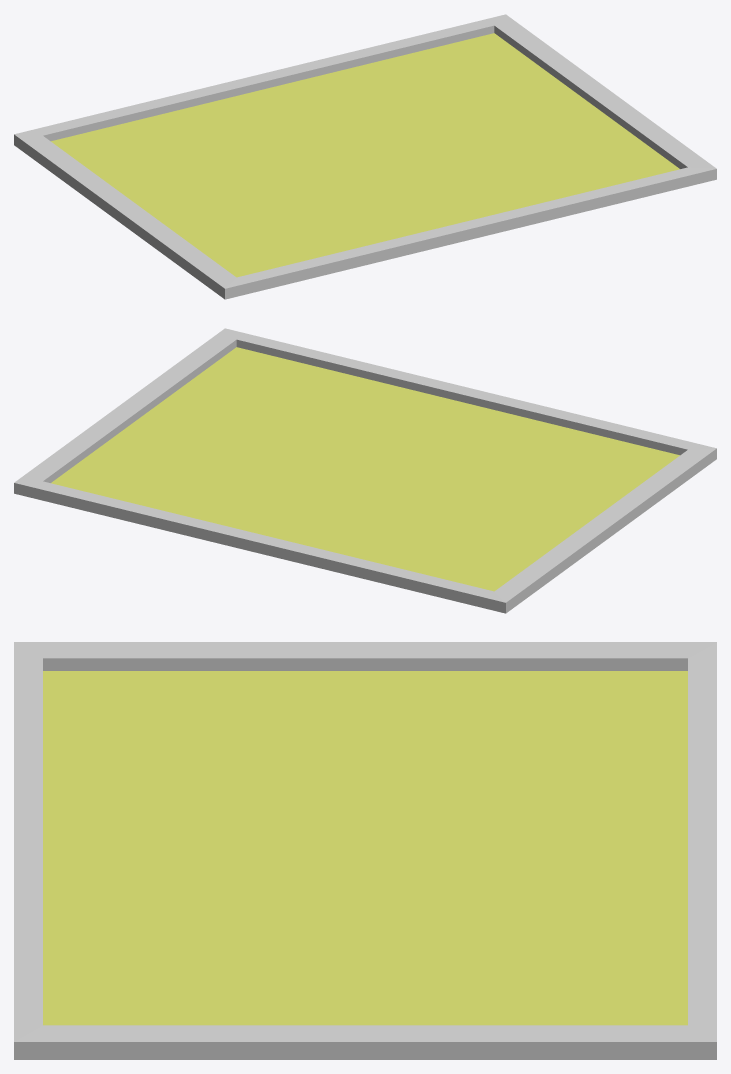
The model's file is suelo baldozas.fbx.
3 views of the same model, one above another, from view 1: azimuth 30°, elevation 25°; view 2: azimuth 150°, elevation 25°; view 3: azimuth 270°, elevation 25° (orthographic). The views are drawn at different scales.
Visible parts, largest first — view 1: Plane; view 2: Plane; view 3: Plane.
Boxes of the visible parts, box(x1,y1,x2,y2) form: Plane: box(14, 14, 716, 299); Plane: box(14, 328, 716, 613); Plane: box(14, 642, 716, 1059).
Size of the model in its own units: 269 by 5.68 by 200.
